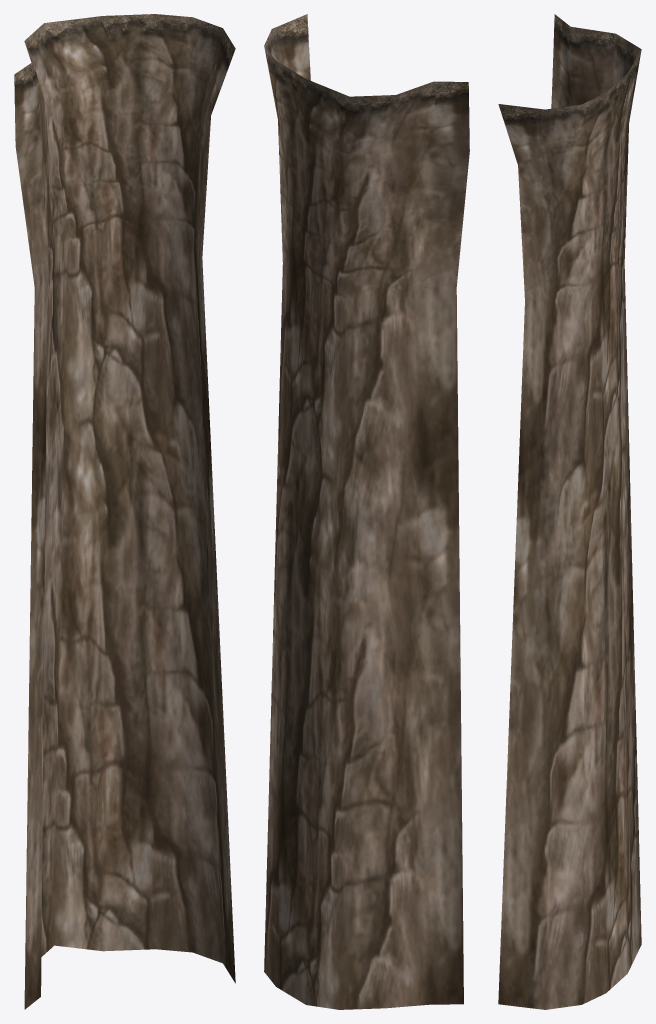
File: OVERHILL_A_01_LINE33.fbx
3 renders of one model, left to right at view 1: azimuth 30°, elevation 25°; view 2: azimuth 150°, elevation 25°; view 3: azimuth 270°, elevation 25°, orthographic. The views are drawn at different scales.
Parts seen in each view (by area): view 1: OVERHILL_A_01_LINE33; view 2: OVERHILL_A_01_LINE33; view 3: OVERHILL_A_01_LINE33.
Boxes of the visible parts, x1,y1,x2,y2 form: OVERHILL_A_01_LINE33: [14, 14, 235, 1009]; OVERHILL_A_01_LINE33: [264, 14, 469, 1009]; OVERHILL_A_01_LINE33: [498, 14, 641, 1009].
Size of the model in its own units: 35182 by 154338 by 22260.
2 materials, 2 textured.
